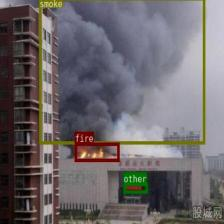fire: (74, 142, 119, 161)
smoke: (38, 0, 204, 144)
